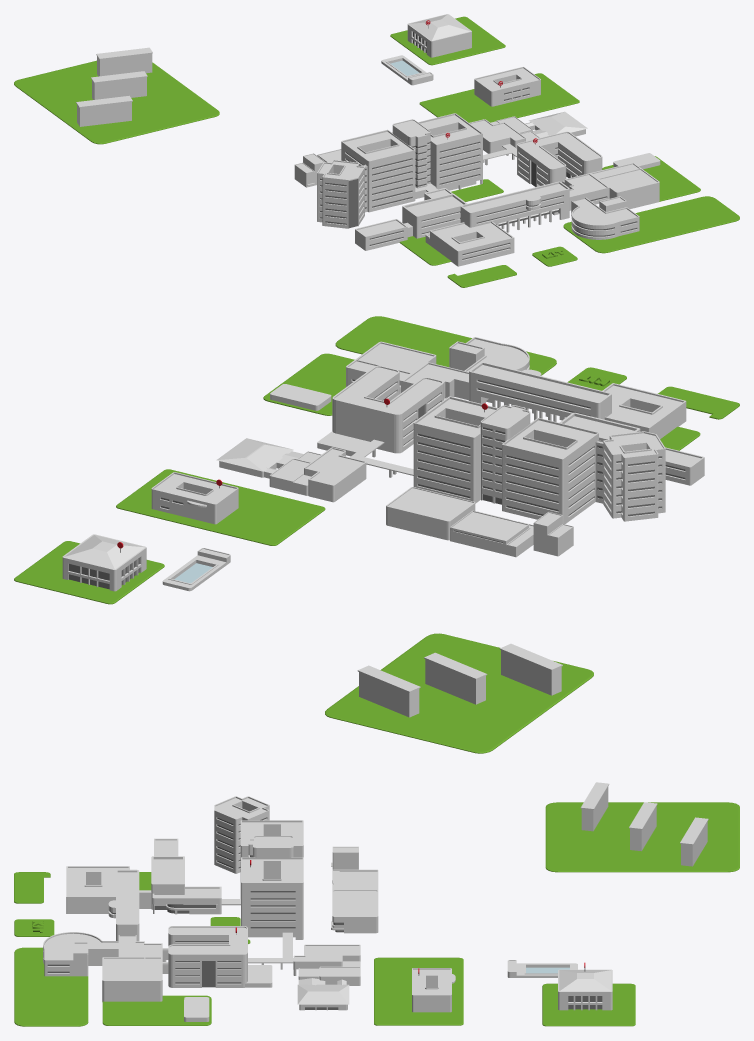
Rendered from kyutech_map.glb.
The picture shows the model from 3 angles, top to bottom: view 1: azimuth 30°, elevation 25°; view 2: azimuth 150°, elevation 25°; view 3: azimuth 270°, elevation 25°; orthographic projection. The views are drawn at different scales.
Visible parts, largest first — view 1: 平面.013, 研究棟西, 平面.011, 研究棟東, 講義棟, 平面.016, 総合研究棟, 共通教育研究棟, 研究管理棟, 図書館, 500人講義室, 課外活動共用施設 (+20 smaller); view 2: 平面.013, 研究棟西, 研究棟東, 講義棟, 平面.016, 総合研究棟, 共通教育研究棟, 平面.011, 課外活動共用施設, マイクロ化総合センター, 研究管理棟, 平面.018 (+21 smaller); view 3: 平面.013, 研究棟東, 講義棟, 平面.011, 平面.016, 500人講義室, 平面.018, 図書館, 総合研究棟, 平面.012, 研究管理棟, マイクロ化総合センター (+23 smaller).
Boxes of the visible parts, left/top/right/bottom form: 平面.013: left=14, top=60, right=219, bottom=144; 研究棟西: left=341, top=129, right=415, bottom=212; 平面.011: left=563, top=196, right=739, bottom=253; 研究棟東: left=418, top=113, right=482, bottom=190; 講義棟: left=517, top=131, right=602, bottom=186; 平面.016: left=419, top=73, right=579, bottom=122; 総合研究棟: left=317, top=160, right=364, bottom=228; 共通教育研究棟: left=460, top=181, right=569, bottom=227; 研究管理棟: left=425, top=221, right=514, bottom=266; 図書館: left=571, top=196, right=639, bottom=239; 500人講義室: left=590, top=163, right=659, bottom=208; 課外活動共用施設: left=474, top=67, right=540, bottom=106; 平面.013: left=325, top=633, right=593, bottom=753; 研究棟西: left=502, top=418, right=598, bottom=524; 研究棟東: left=413, top=396, right=497, bottom=503; 講義棟: left=332, top=365, right=443, bottom=453; 平面.016: left=116, top=469, right=325, bottom=545; 総合研究棟: left=603, top=431, right=665, bottom=521; 共通教育研究棟: left=469, top=362, right=611, bottom=419; 平面.011: left=335, top=316, right=556, bottom=375; 課外活動共用施設: left=151, top=472, right=238, bottom=524; マイクロ化総合センター: left=386, top=487, right=475, bottom=540; 研究管理棟: left=602, top=383, right=686, bottom=438; 平面.018: left=14, top=541, right=164, bottom=604; 平面.013: left=545, top=802, right=739, bottom=872; 研究棟東: left=241, top=857, right=303, bottom=939; 講義棟: left=168, top=926, right=247, bottom=987; 平面.011: left=14, top=947, right=88, bottom=1026; 平面.016: left=374, top=957, right=463, bottom=1025; 500人講義室: left=102, top=957, right=162, bottom=1001; 平面.018: left=542, top=983, right=635, bottom=1026; 図書館: left=43, top=932, right=118, bottom=976; 総合研究棟: left=214, top=796, right=269, bottom=873; 平面.012: left=102, top=995, right=211, bottom=1025; 研究管理棟: left=66, top=866, right=129, bottom=913; マイクロ化総合センター: left=331, top=890, right=378, bottom=933.
Size of the model in its own units: 269 by 37.5 by 369.
